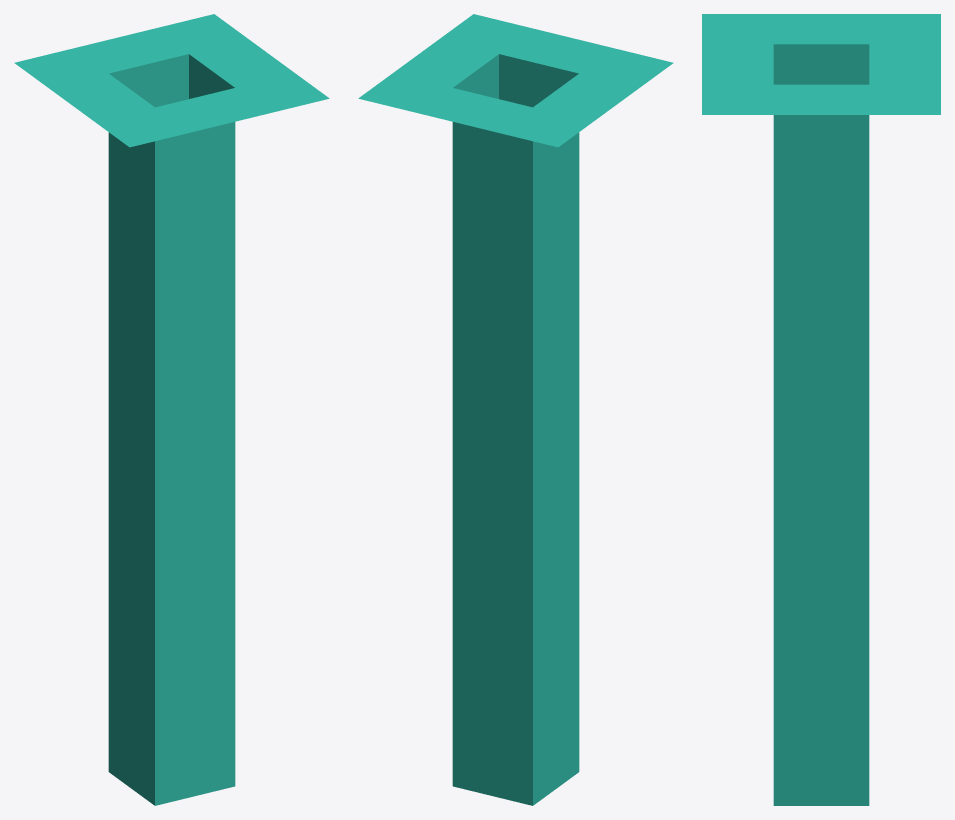
Rendered from Room_Floor.FBX.
3 views of the same model, side by side, from view 1: azimuth 30°, elevation 25°; view 2: azimuth 150°, elevation 25°; view 3: azimuth 270°, elevation 25° (orthographic). The views are drawn at different scales.
Parts seen in each view (by area): view 1: Plane001; view 2: Plane001; view 3: Plane001.
Part boxes in pixels (<box>): Plane001: <box>14,14,329,805</box>; Plane001: <box>358,14,673,805</box>; Plane001: <box>702,14,940,805</box>.
Bounding box in the file's own units: 300 × 1000 × 300.
